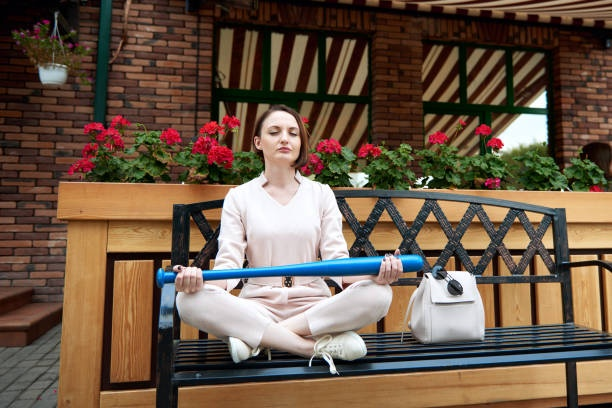bita: (155, 254, 432, 279)
